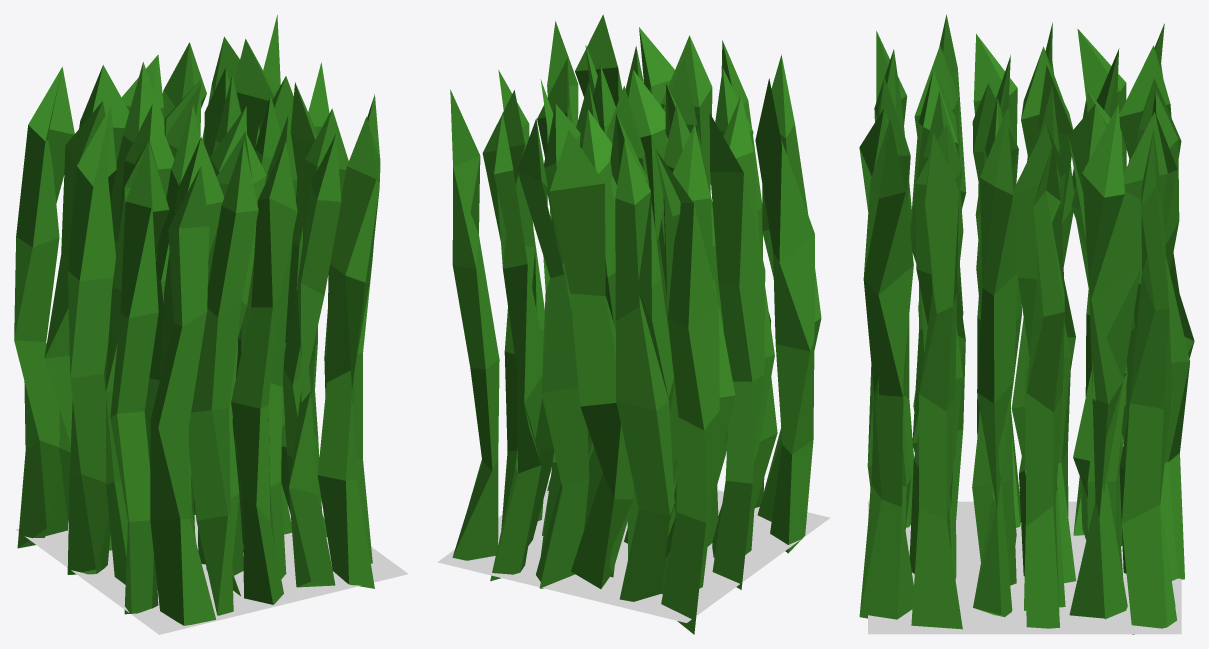
File: Padi revisi.fbx
3 renders of one model, left to right at view 1: azimuth 30°, elevation 25°; view 2: azimuth 150°, elevation 25°; view 3: azimuth 270°, elevation 25°, orthographic. The views are drawn at different scales.
Parts seen in each view (by area): view 1: Plane.008, kotak; view 2: Plane.008, kotak; view 3: Plane.008, kotak.
Boxes of the visible parts, left/top/right/bottom form: Plane.008: left=14, top=15, right=380, bottom=625; kotak: left=15, top=506, right=408, bottom=634; Plane.008: left=450, top=14, right=821, bottom=634; kotak: left=437, top=480, right=830, bottom=622; Plane.008: left=859, top=14, right=1194, bottom=634; kotak: left=868, top=501, right=1181, bottom=634.
Bounding box in the file's own units: 214 × 371 × 214.
